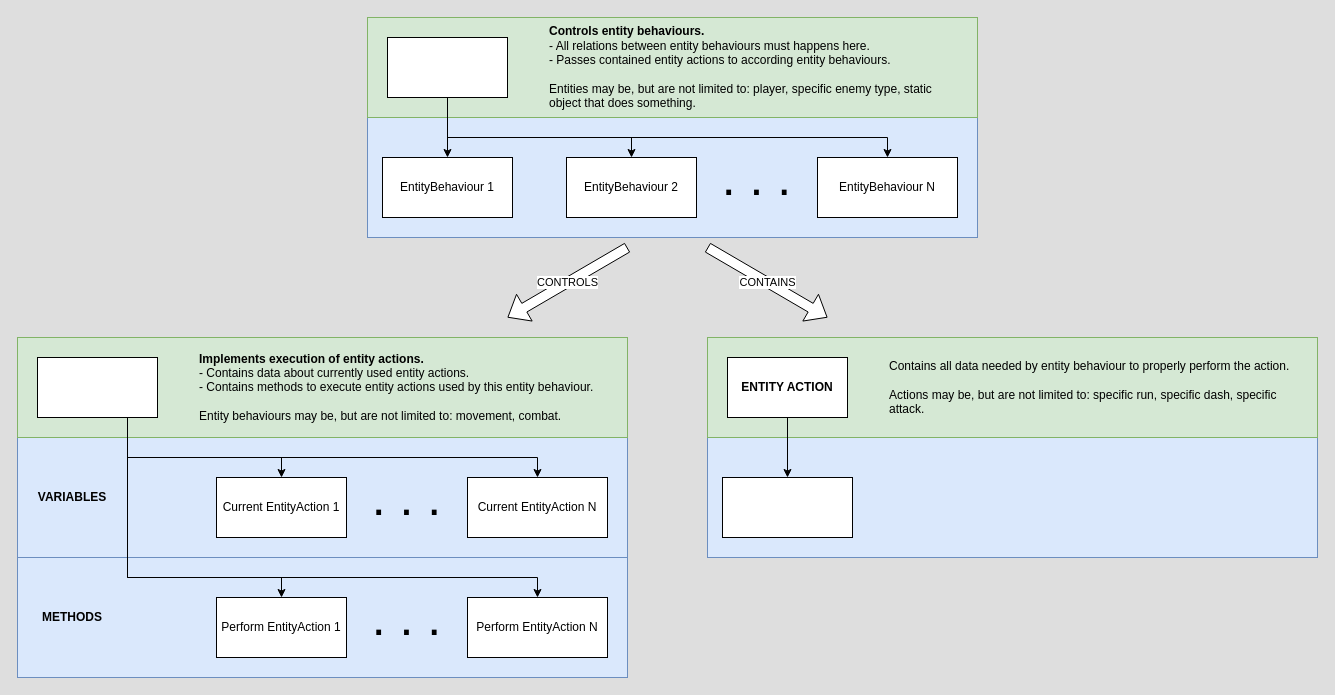
This 1335x695 diagram has some shape labels left out. The centre of each missing label's shape, as x and y in pixels:
"ENTITY" goes at (x=447, y=67).
"ENTITY BEHAVIOUR" goes at (x=97, y=387).
"Specific data associated with this action" goes at (x=787, y=507).
